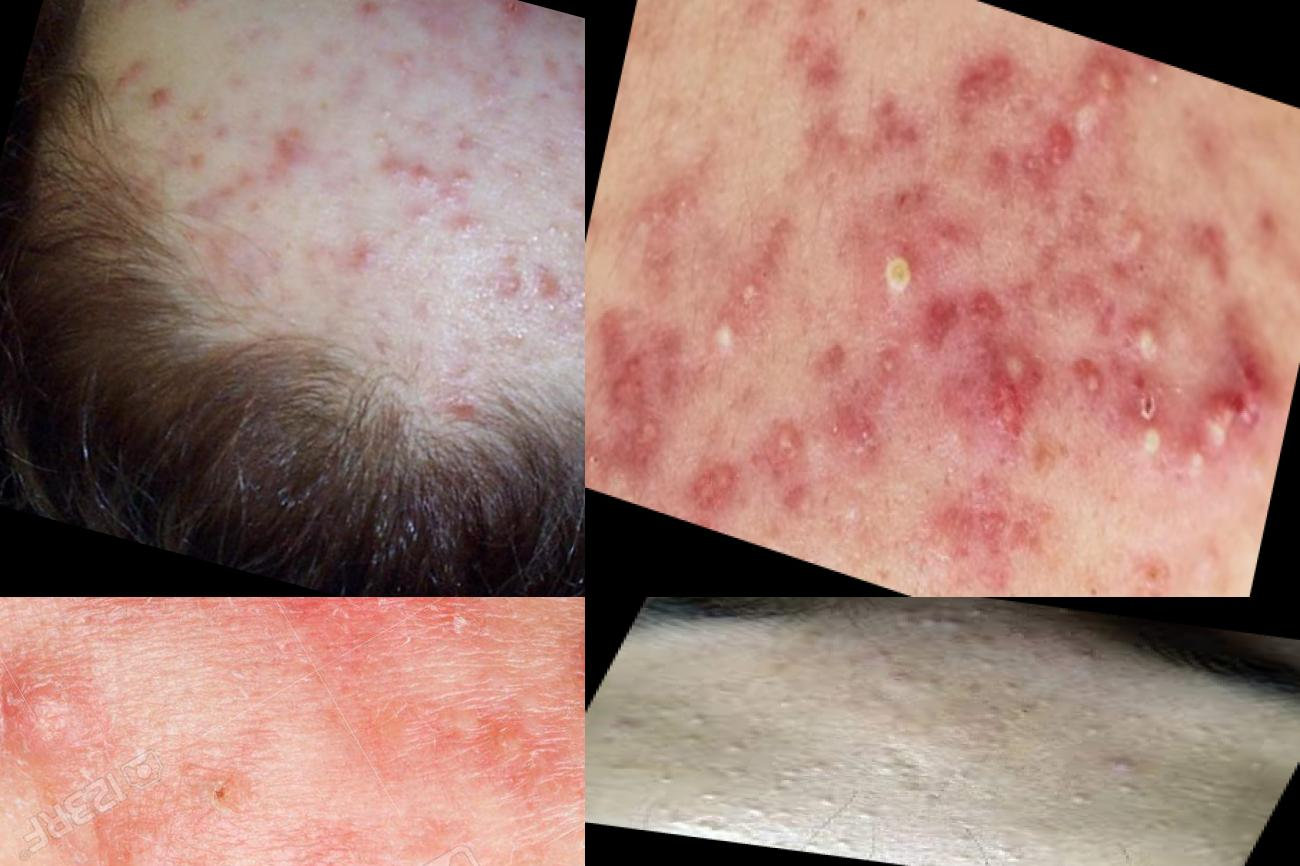acne_scars: (586, 325, 669, 430), (1004, 109, 1079, 208), (908, 273, 976, 364), (858, 83, 929, 160), (681, 435, 738, 523), (1078, 272, 1131, 356), (971, 494, 1014, 560)
blackhead: (862, 655, 939, 700), (982, 698, 1057, 730)
papular: (1, 644, 109, 778), (67, 795, 207, 866), (253, 113, 321, 183), (119, 68, 184, 121), (430, 160, 481, 225), (441, 202, 500, 256), (484, 261, 541, 314), (473, 1, 539, 37), (402, 155, 444, 198), (374, 152, 412, 191), (532, 259, 564, 304), (346, 1, 388, 33)
purulent: (859, 224, 932, 321), (1120, 299, 1173, 385), (1129, 404, 1179, 485), (700, 304, 750, 366), (723, 264, 773, 323)
sebo-crystan-conglo: (1175, 330, 1280, 500), (981, 309, 1061, 442), (1059, 44, 1144, 162)
whitehead: (1145, 706, 1267, 774), (848, 598, 1000, 651), (650, 702, 735, 755), (324, 226, 390, 289), (1058, 697, 1133, 747), (527, 206, 581, 260), (758, 763, 813, 802), (1049, 783, 1104, 818), (835, 802, 895, 834), (727, 800, 799, 826), (1108, 771, 1155, 806), (367, 89, 409, 126), (560, 277, 586, 327), (710, 742, 757, 764), (683, 789, 727, 810), (806, 795, 844, 816), (572, 157, 586, 202)
